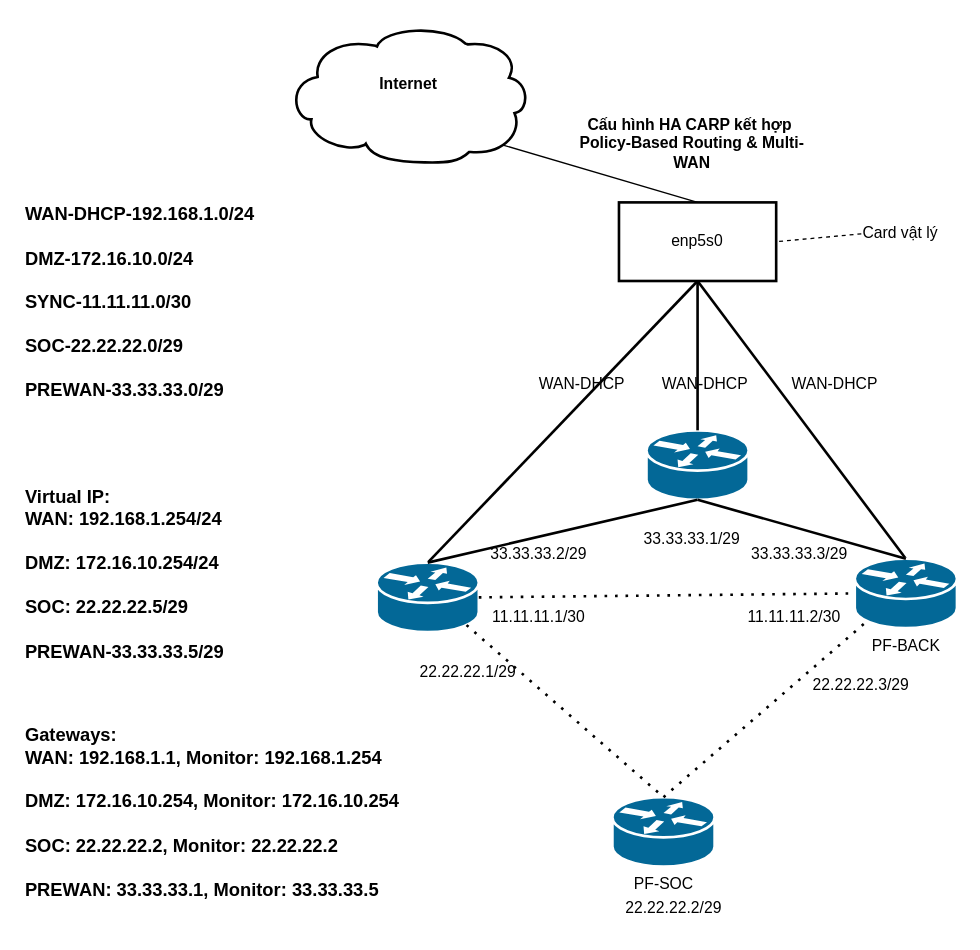
Some shapes in this 980 by 950 pixel diagram are drawn without their labels. The centre of each missing label's shape, as x and y in pixels:
"PF-MATER" belongs at [427,597].
"PF-PREWAN" belongs at [697,464].
